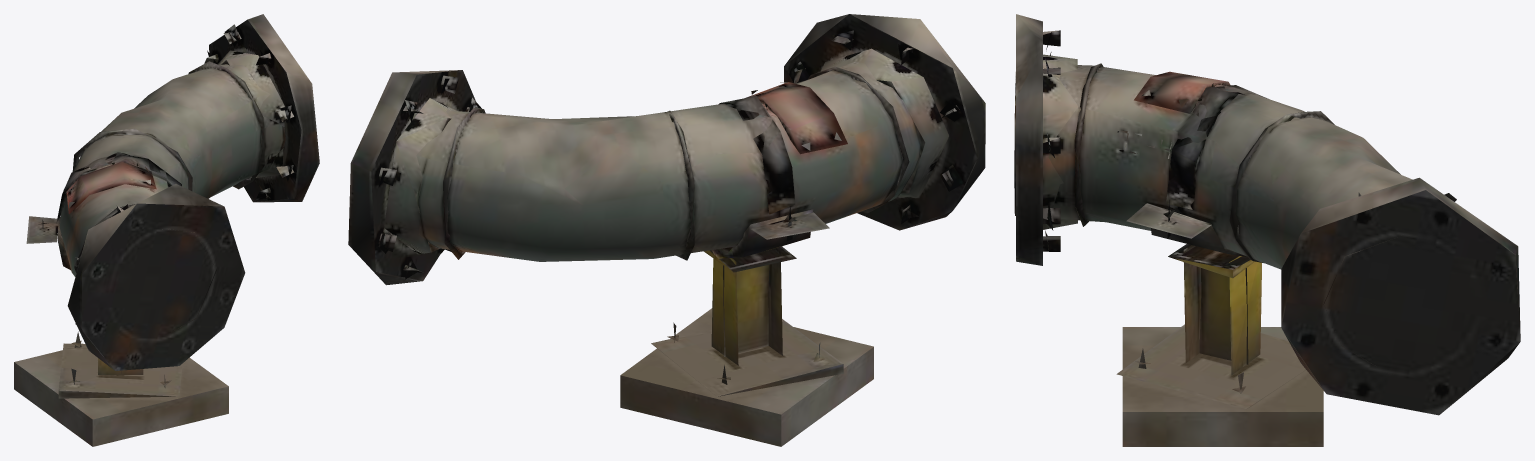
File: cano_curva.glb
The picture shows the model from 3 angles, left to right: view 1: azimuth 30°, elevation 25°; view 2: azimuth 150°, elevation 25°; view 3: azimuth 270°, elevation 25°; orthographic projection. The views are drawn at different scales.
Visible parts, largest first — view 1: cano_curva_corpo; view 2: cano_curva_corpo; view 3: cano_curva_corpo.
Part boxes in pixels (x1,y1,x2,y2): cano_curva_corpo: (14, 14, 319, 446); cano_curva_corpo: (348, 14, 985, 446); cano_curva_corpo: (1014, 14, 1520, 446).
Size of the model in its own units: 0.6615 by 0.5042 by 0.6547.
1 material, 1 textured.
